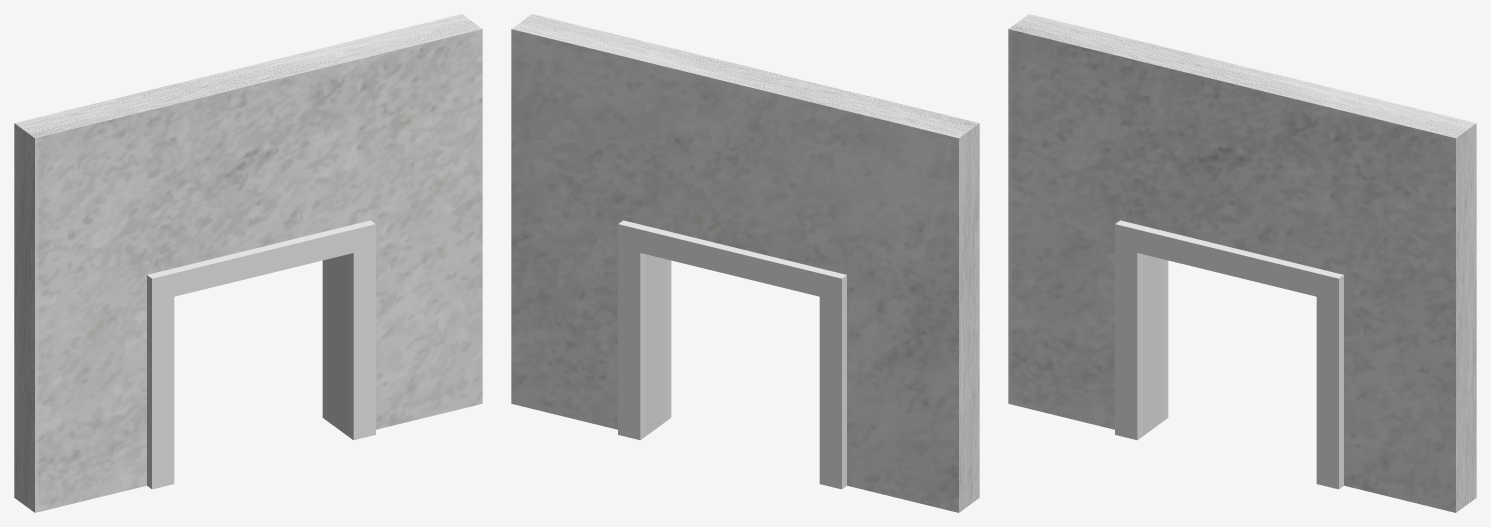
The model's file is doorWall.gltf.
The picture shows the model from 3 angles, left to right: view 1: azimuth 30°, elevation 25°; view 2: azimuth 150°, elevation 25°; view 3: azimuth 330°, elevation 25°; orthographic projection.
Visible parts, largest first — view 1: Cube, 立方体; view 2: Cube, 立方体; view 3: Cube, 立方体.
Part boxes in pixels (x1,y1,x2,y2): Cube: [14, 14, 482, 512]; 立方体: [147, 220, 375, 489]; Cube: [511, 14, 979, 512]; 立方体: [618, 220, 846, 489]; Cube: [1008, 14, 1476, 512]; 立方体: [1115, 220, 1343, 489].
Bounding box in the file's own units: 10 × 8 × 1.2.
Materials: 2 (1 with a texture image).
